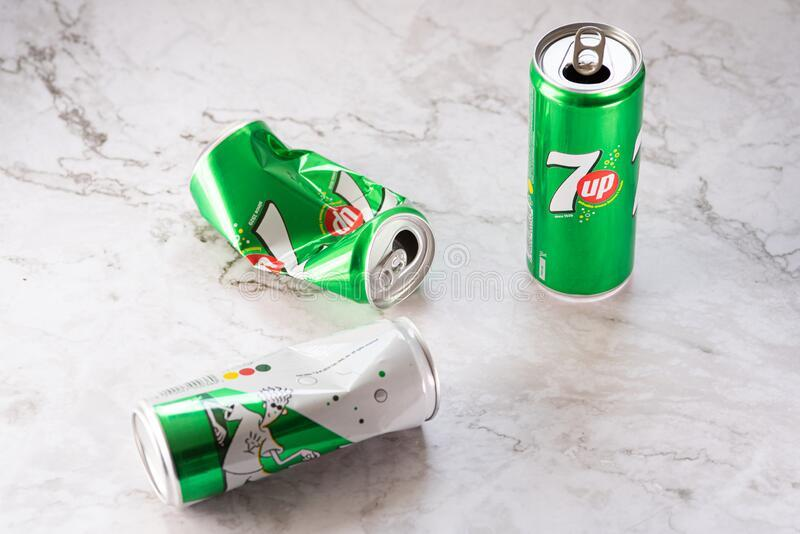metal: (125, 315, 449, 510), (184, 117, 447, 308), (511, 17, 655, 313)
